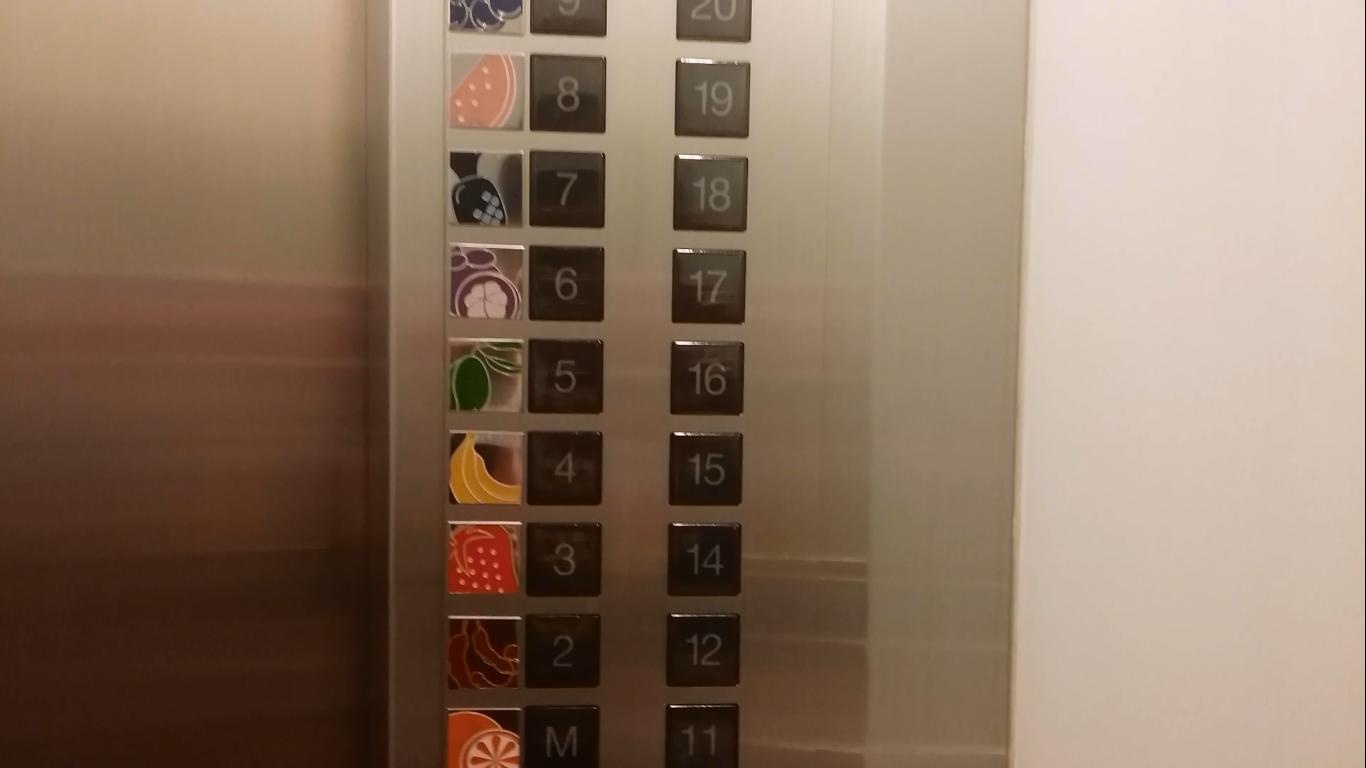11: (662, 699, 742, 768)
12: (662, 609, 743, 691)
14: (664, 518, 745, 600)
15: (666, 429, 748, 509)
16: (667, 338, 748, 419)
17: (667, 243, 749, 327)
18: (669, 150, 751, 234)
19: (670, 54, 754, 142)
2: (521, 610, 603, 691)
3: (522, 518, 604, 599)
4: (523, 427, 605, 508)
5: (524, 335, 606, 416)
6: (525, 242, 607, 323)
7: (523, 147, 610, 232)
8: (525, 50, 612, 135)
M: (519, 699, 602, 768)
